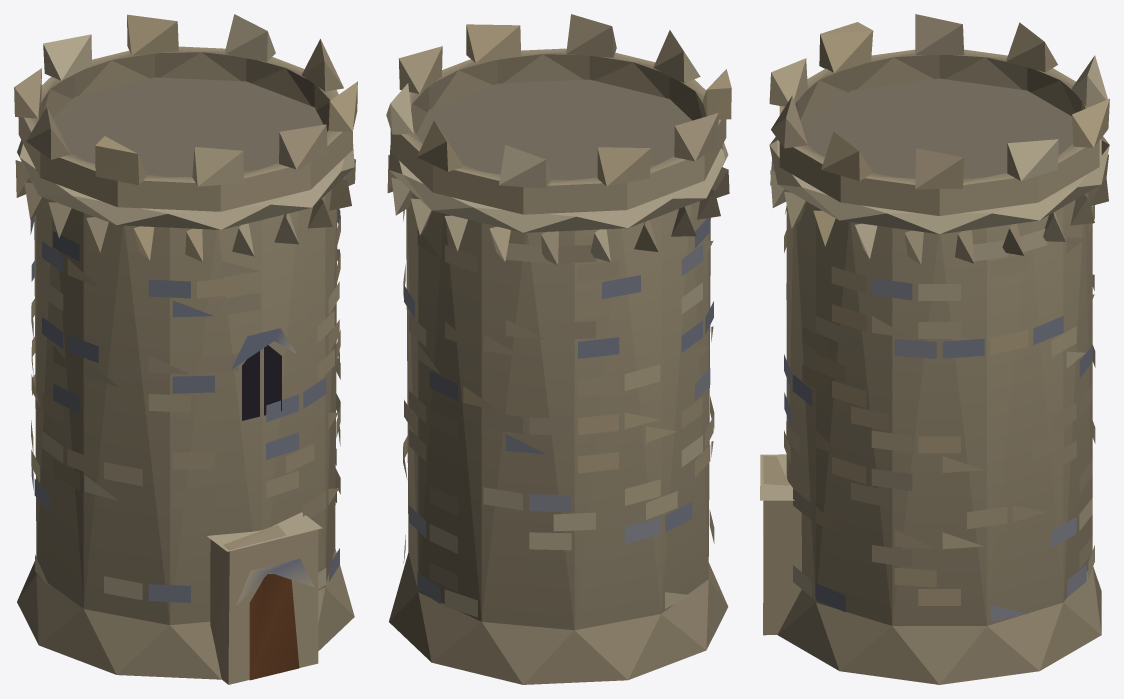
File: town_keep-lod1.glb
3 renders of one model, left to right at view 1: azimuth 30°, elevation 25°; view 2: azimuth 150°, elevation 25°; view 3: azimuth 270°, elevation 25°, orthographic.
Parts seen in each view (by area): view 1: town_keep; view 2: town_keep; view 3: town_keep.
Boxes of the visible parts, x1,y1,x2,y2 form: town_keep: [14, 14, 357, 684]; town_keep: [386, 14, 731, 684]; town_keep: [760, 14, 1109, 684].
Bounding box in the file's own units: 8.93 × 15.23 × 9.15.
